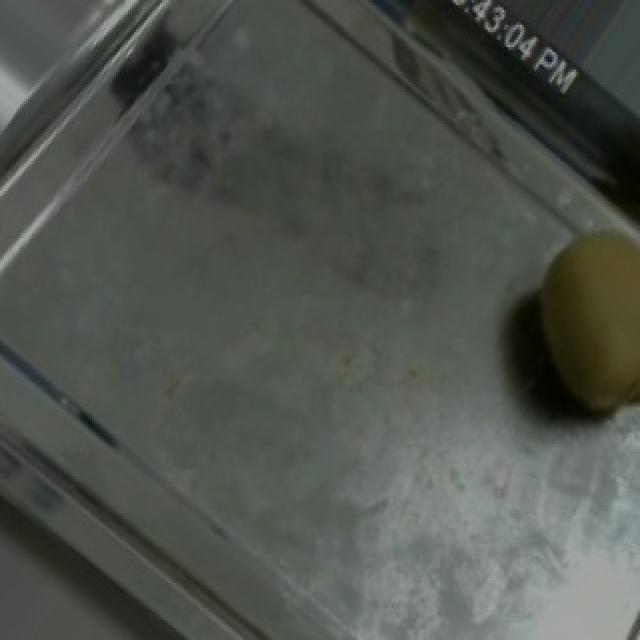Fruit: (484, 198, 640, 449)
